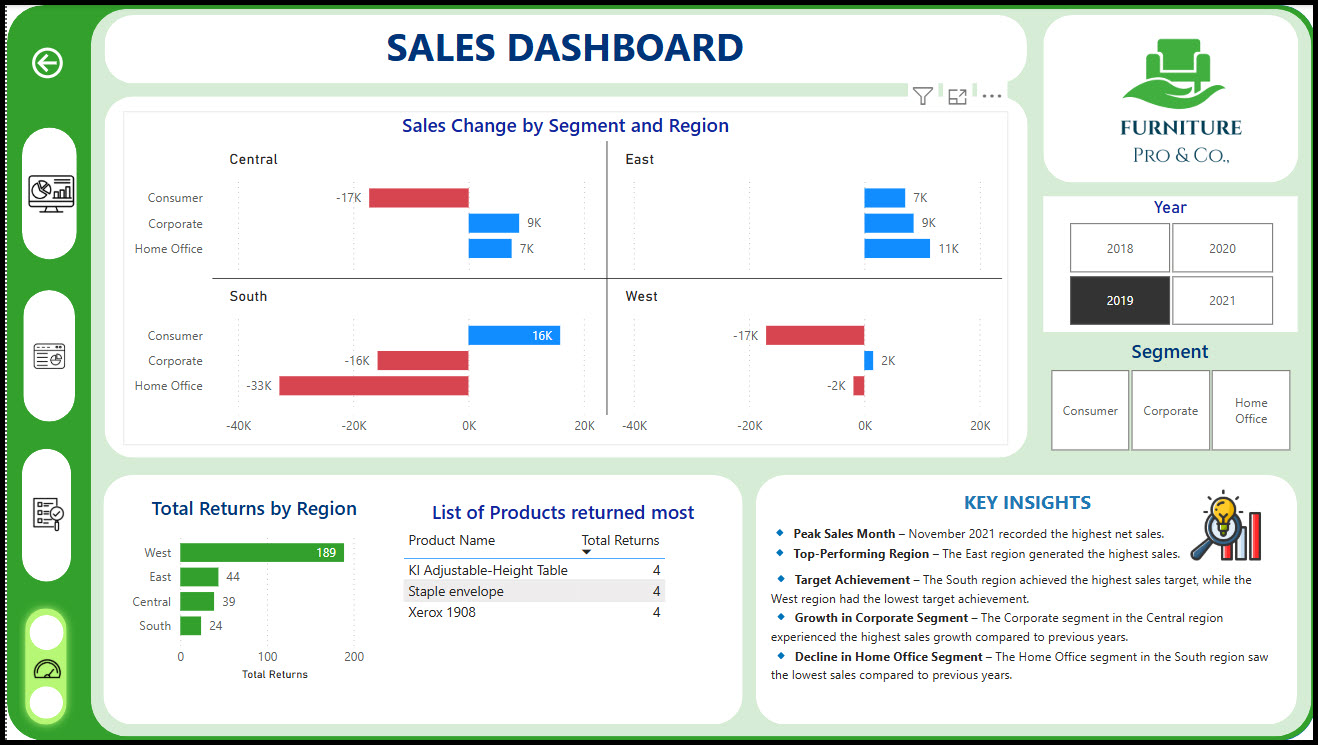

The dashboard page shown, as its layout file describes it:
{"tool":"powerbi","page":{"name":"4. Sales Change and Returns","canvas":[1280,720],"ordinal":3},"visuals":[{"type":"textbox","box":[741.1,500.3,442.8,51],"z":0,"group":"g1"},{"type":"shape","box":[9.8,0,1270.5,720.2],"z":0},{"type":"shape","box":[0,0,1280.2,719.8],"z":1000},{"type":"textbox","box":[742.4,545.9,503.1,126.1],"z":1000,"group":"g1"},{"type":"shape","box":[82.3,3.2,1194.5,712.3],"z":2000},{"type":"shape","box":[15,120,53.8,129.4],"z":3000},{"type":"shape","box":[15.8,279.2,50.8,129.2],"z":4000},{"type":"shape","box":[15,434,48,130],"z":5000},{"type":"shape","box":[95.1,88.9,902.9,354],"z":6000},{"type":"shape","box":[1014.1,9.9,249.5,163.8],"z":15000},{"type":"shape","box":[95.6,9.9,902.4,67],"z":16000},{"type":"image","box":[1045.2,0,191.2,178.7],"z":17000},{"type":"textbox","box":[100.5,9.9,891.2,67],"z":18000},{"type":"image","box":[5.8,151.7,74.2,66.7],"z":19000},{"type":"image","box":[15,319.4,53.8,48.8],"z":20000},{"type":"image","box":[18,477,45,43],"z":21000},{"type":"actionButton","box":[1,434,80,130],"z":22000},{"type":"actionButton","box":[1.7,279.2,80,130],"z":23000},{"type":"actionButton","box":[1.7,119.2,80,130],"z":24000},{"type":"actionButton","box":[20,37.1,60,40],"z":25000},{"type":"shape","box":[93.9,460.2,625.2,244.2],"z":26000},{"type":"clusteredBarChart","title":"Sales Change by Segment and Region","fields":{"Y":["Measures tables.Sales__Change"],"Rows":["Orders.Region"],"Category":["Orders.Segment"]},"box":[113.8,104.5,865.5,325.9],"z":27000},{"type":"slicer","title":"Year","fields":{"Values":["Orders.Year"]},"box":[1014.3,187.1,248.6,132.9],"z":28000},{"type":"barChart","fields":{"Category":["Orders.Region"],"Y":["Measures tables.Total Returns"]},"box":[114,479,256.3,186.5],"z":29000},{"type":"tableEx","title":"List of Products returned most","fields":{"Values":["Product.Product Name","Measures tables.Total Returns"]},"box":[381,483,324.7,203.9],"z":30000},{"type":"slicer","title":"Segment","fields":{"Values":["Orders.Segment"]},"box":[995.7,325.7,284.3,117.1],"z":31000},{"type":"shape","box":[732.6,460.2,530,244.2],"z":32000},{"type":"textbox","box":[732.6,468.3,531.3,38.9],"z":33000},{"type":"image","box":[1148.5,466.9,87.2,83.2],"z":34000},{"type":"group","id":"g1","title":"Group 1","box":[741.1,500.3,504.5,171.7],"z":35000},{"type":"shape","box":[10,582.5,56.5,130],"z":36000},{"type":"image","box":[12.5,628.5,54,43.5],"z":37000},{"type":"shape","box":[21.5,667,33,32],"z":38000},{"type":"shape","box":[21.5,596.5,33.5,34.5],"z":39000},{"type":"actionButton","box":[12.7,582.7,52.7,130],"z":40000}]}

Visuals, with their boxes in screenshot pixels (x1, y1, x2, y2), scaled from the page's 1280x720 canvas onto the 1318x745 screenshot:
textbox: [763,518,1219,570]
shape: [10,0,1317,744]
shape: [0,0,1317,744]
textbox: [764,565,1282,695]
shape: [85,3,1315,740]
shape: [15,124,71,258]
shape: [16,289,69,423]
shape: [15,449,65,584]
shape: [98,92,1028,458]
shape: [1044,10,1301,180]
shape: [98,10,1028,80]
image: [1076,0,1273,185]
textbox: [103,10,1021,80]
image: [6,157,82,226]
image: [15,330,71,381]
image: [19,494,65,538]
actionButton: [1,449,83,584]
actionButton: [2,289,84,423]
actionButton: [2,123,84,258]
actionButton: [21,38,82,80]
shape: [97,476,740,729]
"Sales Change by Segment and Region" clusteredBarChart: [117,108,1008,445]
"Year" slicer: [1044,194,1300,331]
barChart - Orders.Region x Measures tables.Total Returns: [117,496,381,689]
"List of Products returned most" tableEx: [392,500,727,711]
"Segment" slicer: [1025,337,1317,458]
shape: [754,476,1300,729]
textbox: [754,485,1301,525]
image: [1183,483,1272,569]
"Group 1" group: [763,518,1283,695]
shape: [10,603,68,737]
image: [13,650,68,695]
shape: [22,690,56,723]
shape: [22,617,57,653]
actionButton: [13,603,67,737]
